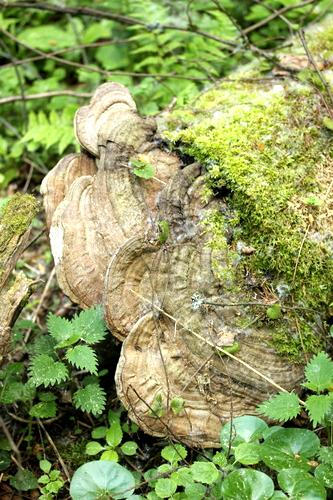Ganoderma - Fruit Body: (39, 79, 321, 449)
